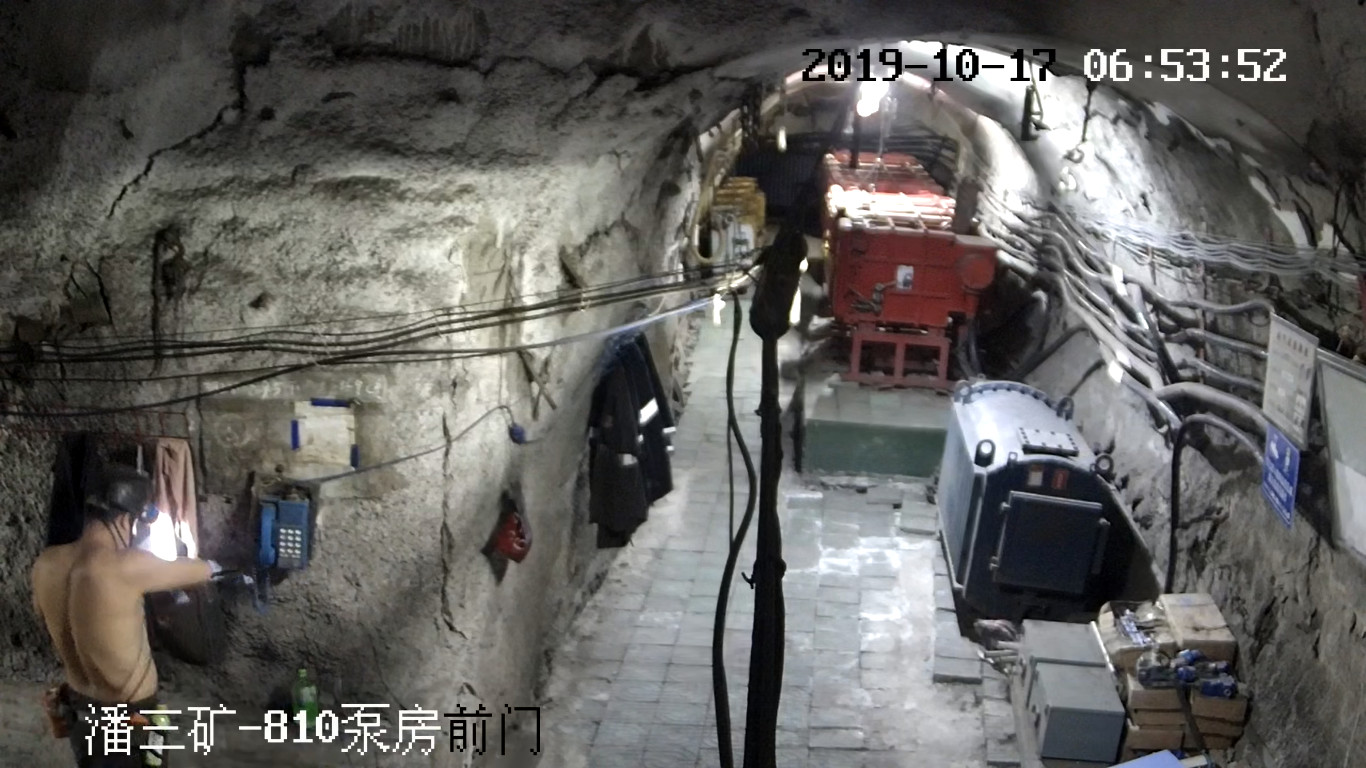helmet: (85, 481, 159, 524)
